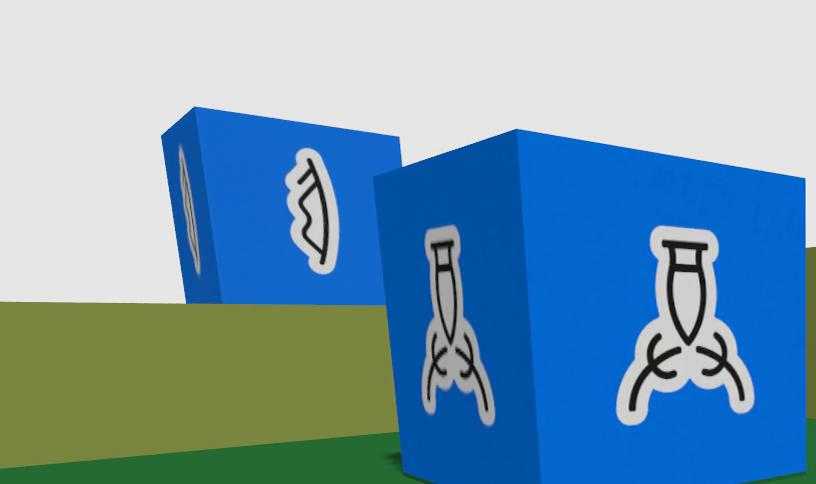KFS_REAL: (375, 130, 804, 484), (163, 108, 399, 305), (617, 226, 754, 425), (418, 227, 495, 425), (285, 148, 339, 274)
